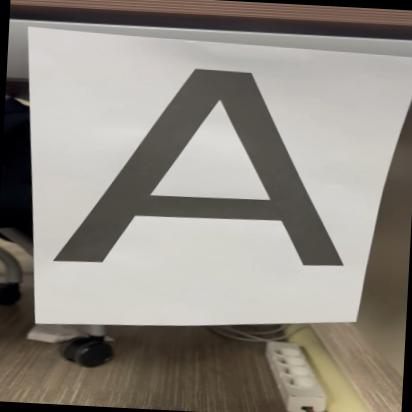seat: (31, 46, 372, 299)
